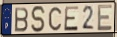2: (81, 5, 96, 33)
B: (14, 7, 30, 33)
C: (48, 6, 63, 32)
E: (97, 4, 113, 33), (63, 5, 80, 32)
S: (30, 5, 47, 34)
